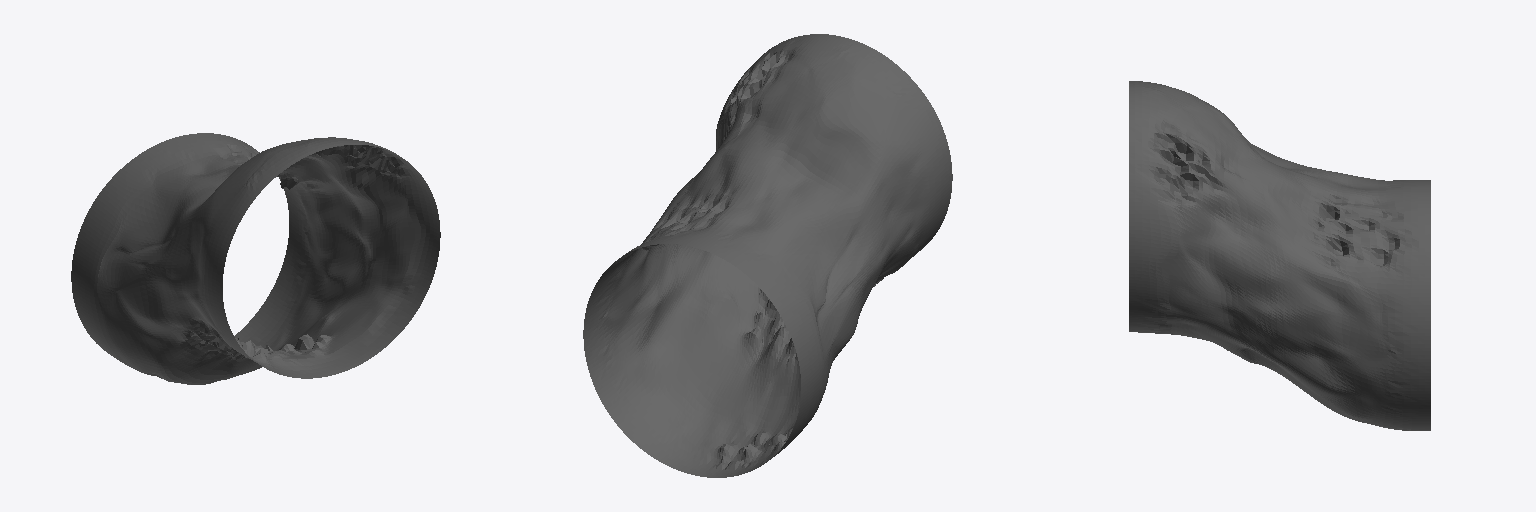
The model's file is tunnel_base_upturned_edit.obj.
The picture shows the model from 3 angles: view 1: azimuth 30°, elevation 25°; view 2: azimuth 150°, elevation 25°; view 3: azimuth 270°, elevation 25°; orthographic projection.
Parts seen in each view (by area): view 1: tunnel_base_upturned_edit3:pCylinder1; view 2: tunnel_base_upturned_edit3:pCylinder1; view 3: tunnel_base_upturned_edit3:pCylinder1.
Part boxes in pixels (bbox=[...]): tunnel_base_upturned_edit3:pCylinder1: bbox=[71, 133, 440, 384]; tunnel_base_upturned_edit3:pCylinder1: bbox=[583, 34, 952, 477]; tunnel_base_upturned_edit3:pCylinder1: bbox=[1129, 81, 1430, 430].
Size of the model in its own units: 4.26 by 6.11 by 5.12.